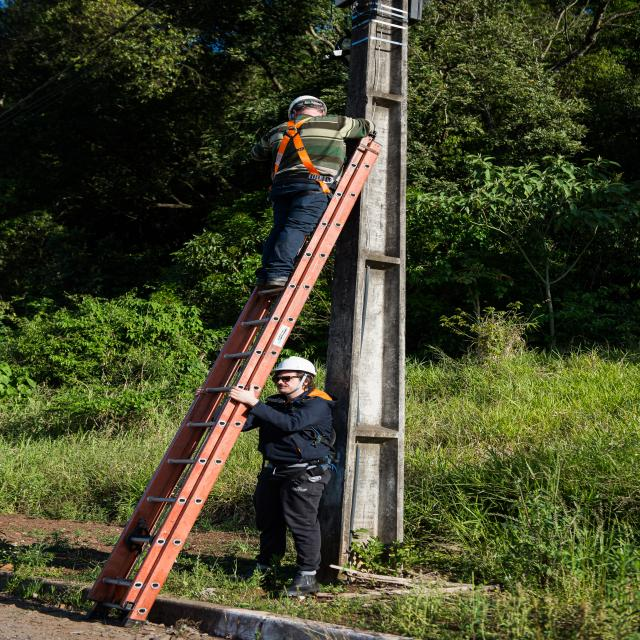botas: (271, 572, 320, 600)
capacete: (270, 355, 320, 376), (287, 94, 331, 114)
